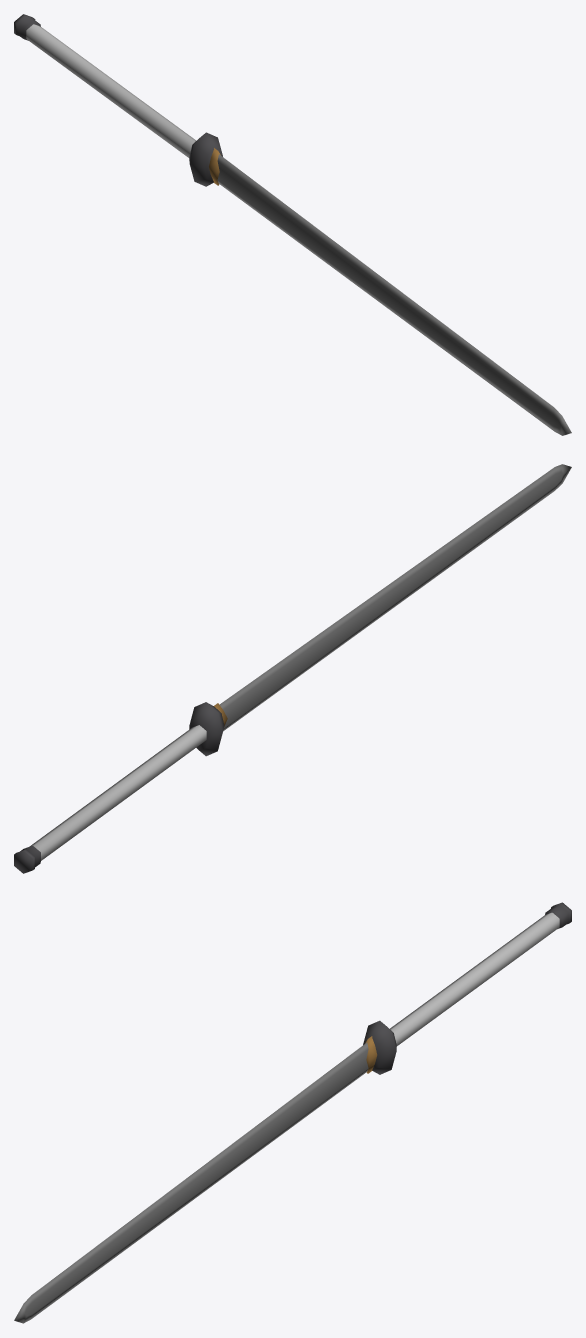
File: arma.fbx
3 views of the same model, one above another, from view 1: azimuth 30°, elevation 25°; view 2: azimuth 150°, elevation 25°; view 3: azimuth 330°, elevation 25° (orthographic).
Parts seen in each view (by area): view 1: Jian; view 2: Jian; view 3: Jian.
Boxes of the visible parts, x1=… form: Jian: x1=14, y1=14, x2=571, y2=435; Jian: x1=14, y1=464, x2=571, y2=873; Jian: x1=14, y1=902, x2=571, y2=1323.
Bounding box in the file's own units: 6.78 × 10.61 × 194.
